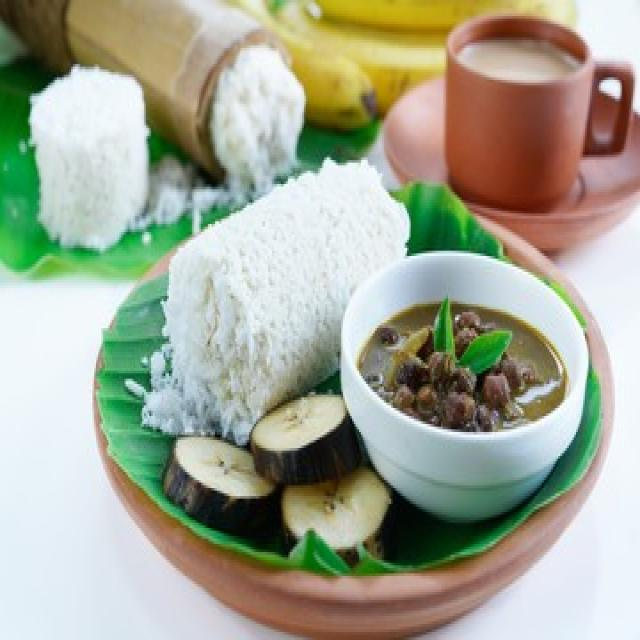CURRY: (358, 300, 567, 433)
PUTTU: (136, 150, 410, 444)
